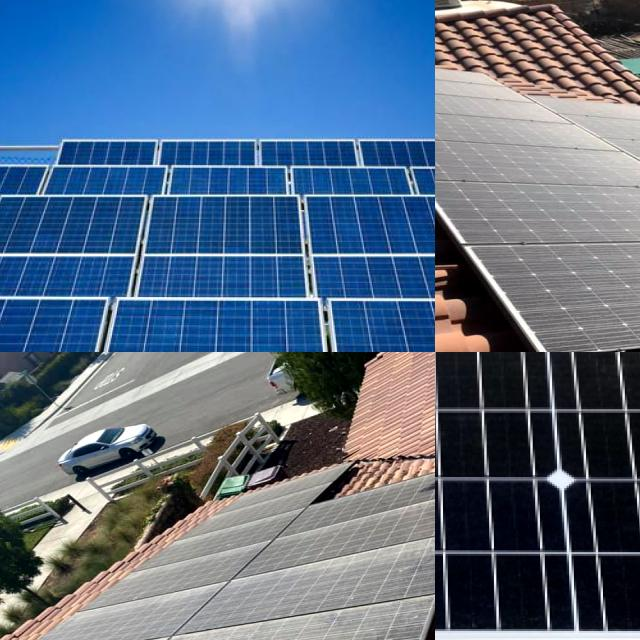crack: (435, 352, 640, 640), (0, 193, 197, 330), (133, 192, 331, 312), (282, 186, 435, 318), (77, 293, 340, 352)
dust: (224, 558, 419, 610), (455, 179, 640, 231), (511, 244, 640, 317), (435, 136, 631, 176), (136, 542, 213, 628), (303, 491, 435, 541), (435, 83, 530, 120), (224, 501, 290, 532)
